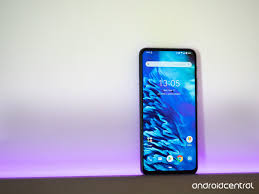asus: (136, 44, 200, 176)
